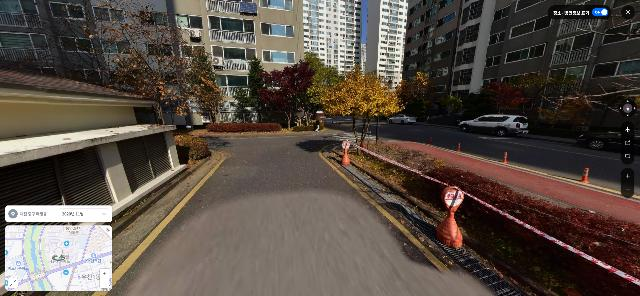ginkgo: (317, 62, 401, 152)
other: (97, 1, 194, 126), (264, 60, 316, 129), (186, 48, 220, 124), (304, 51, 338, 125), (399, 72, 427, 113)
